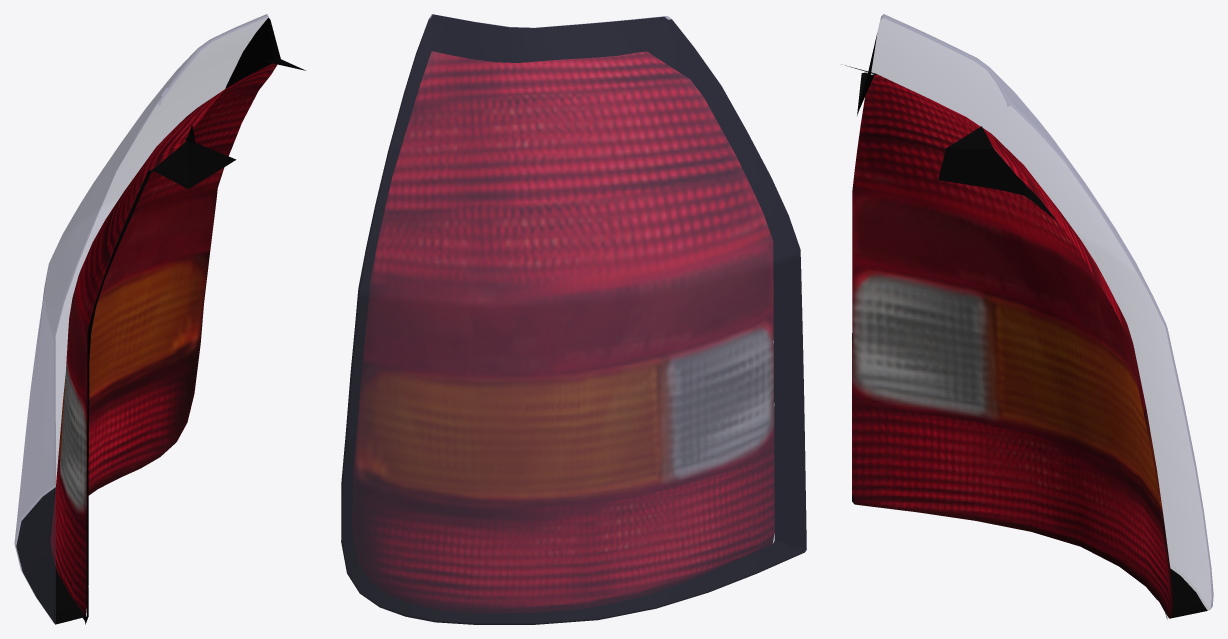
3 views of the same model, side by side, from view 1: azimuth 30°, elevation 25°; view 2: azimuth 150°, elevation 25°; view 3: azimuth 270°, elevation 25° (orthographic). The views are drawn at different scales.
Visible parts, largest first — view 1: H025_10_541C_L_H025_10_541C_L_2_N, H025_10_541C_L_1_DTaSI_H025_10_541C_L, H025_10_541C_L_H025_10_541C_L_4_D, H025_10_541C_L_H025_10_541C_L_3_D; view 2: H025_10_541C_L_1_DTaSI_H025_10_541C_L, H025_10_541C_L_H025_10_541C_L_2_N, H025_10_541C_L_H025_10_541C_L_4_D; view 3: H025_10_541C_L_H025_10_541C_L_2_N, H025_10_541C_L_1_DTaSI_H025_10_541C_L, H025_10_541C_L_H025_10_541C_L_3_D, H025_10_541C_L_H025_10_541C_L_4_D.
Boxes of the visible parts, bbox=[...] form: H025_10_541C_L_H025_10_541C_L_2_N: bbox=[50, 63, 277, 616]; H025_10_541C_L_1_DTaSI_H025_10_541C_L: bbox=[14, 14, 269, 623]; H025_10_541C_L_H025_10_541C_L_4_D: bbox=[16, 18, 280, 624]; H025_10_541C_L_H025_10_541C_L_3_D: bbox=[83, 59, 306, 624]; H025_10_541C_L_1_DTaSI_H025_10_541C_L: bbox=[341, 14, 806, 624]; H025_10_541C_L_H025_10_541C_L_2_N: bbox=[352, 51, 774, 613]; H025_10_541C_L_H025_10_541C_L_4_D: bbox=[341, 14, 806, 624]; H025_10_541C_L_H025_10_541C_L_2_N: bbox=[852, 74, 1173, 618]; H025_10_541C_L_1_DTaSI_H025_10_541C_L: bbox=[871, 14, 1213, 610]; H025_10_541C_L_H025_10_541C_L_3_D: bbox=[845, 65, 1167, 618]; H025_10_541C_L_H025_10_541C_L_4_D: bbox=[852, 33, 1207, 618].
Bounding box in the file's own units: 20.7 × 33.22 × 20.74.
